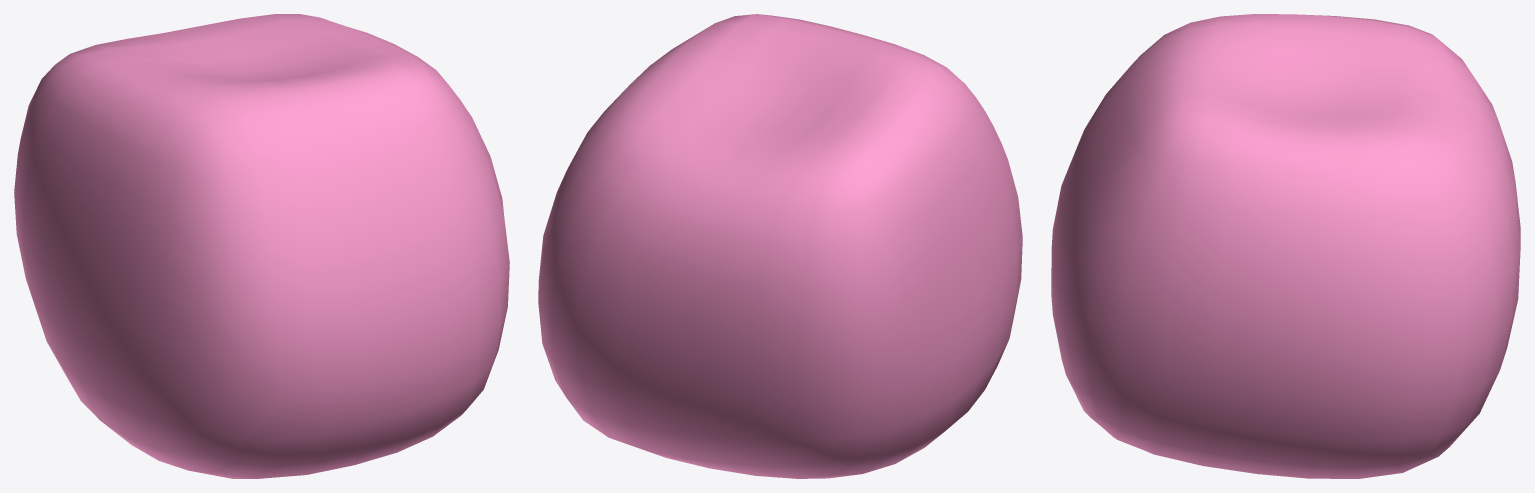
Rendered from Marshmallow_A_02.fbx.
3 views of the same model, side by side, from view 1: azimuth 30°, elevation 25°; view 2: azimuth 150°, elevation 25°; view 3: azimuth 270°, elevation 25° (orthographic). The views are drawn at different scales.
Visible parts, largest first — view 1: Marshmallow_A_02_LOD0; view 2: Marshmallow_A_02_LOD0; view 3: Marshmallow_A_02_LOD0.
Part boxes in pixels (x1,y1,x2,y2): Marshmallow_A_02_LOD0: (14,14,509,478); Marshmallow_A_02_LOD0: (538,14,1022,478); Marshmallow_A_02_LOD0: (1051,14,1520,478).
Size of what is drawn, in the model's own units: 408 by 386 by 439.
